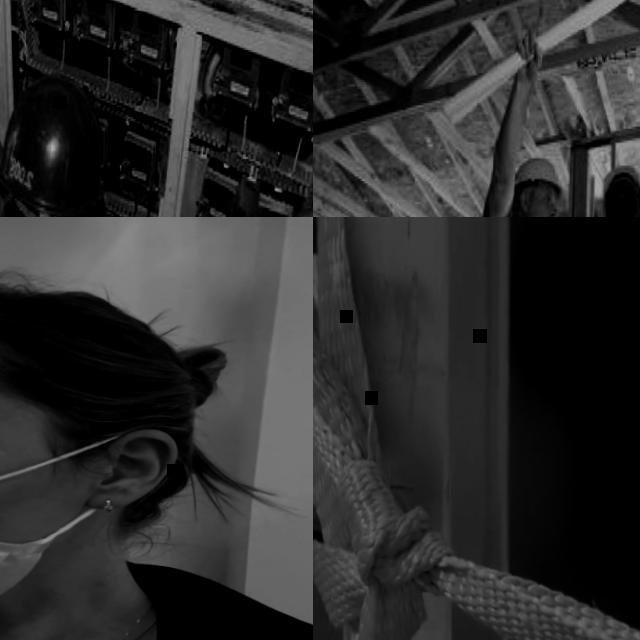Weapon: (0, 28, 141, 232)
objects: (1, 27, 166, 200), (511, 119, 589, 213)
